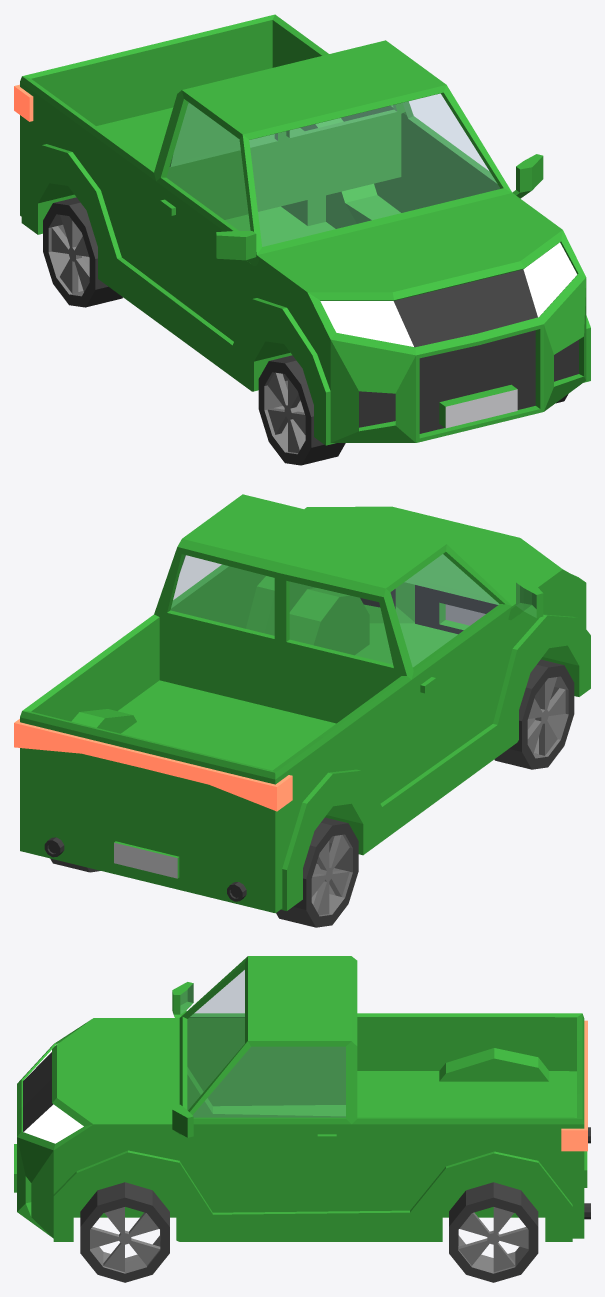
File: pickup.glb
3 renders of one model, top to bottom at view 1: azimuth 30°, elevation 25°; view 2: azimuth 150°, elevation 25°; view 3: azimuth 270°, elevation 25°, orthographic. The views are drawn at different scales.
Parts seen in each view (by area): view 1: Pickup, Pickup wheel front right, Pickup wheel rear right; view 2: Pickup, Pickup wheel rear right, Pickup wheel front right; view 3: Pickup, Pickup wheel rear left, Pickup wheel front left.
Part boxes in pixels (x1,y1,x2,y2): Pickup: (14, 14, 590, 445); Pickup wheel front right: (258, 355, 345, 465); Pickup wheel rear right: (43, 197, 122, 307); Pickup: (14, 494, 590, 913); Pickup wheel rear right: (276, 817, 358, 927); Pickup wheel front right: (494, 659, 574, 769); Pickup: (14, 956, 590, 1241); Pickup wheel rear left: (449, 1182, 538, 1282); Pickup wheel front left: (80, 1182, 169, 1282).
Bounding box in the file's own units: 2.81 × 2.21 × 5.04.
